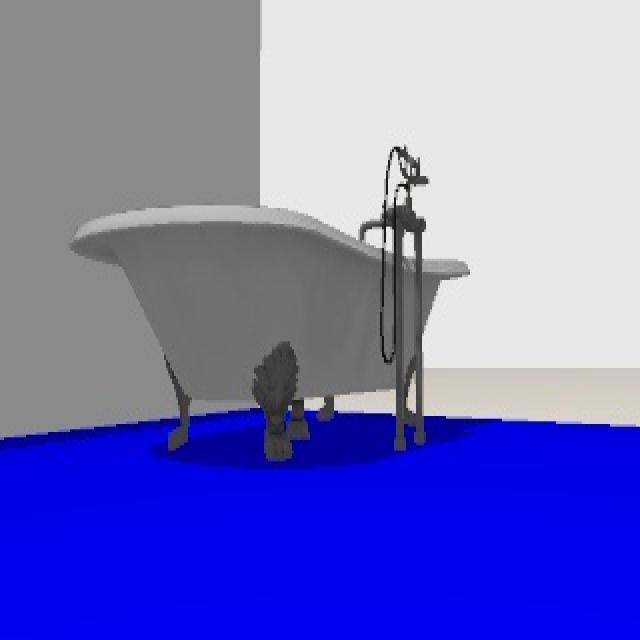bathtub: (73, 147, 468, 461)
